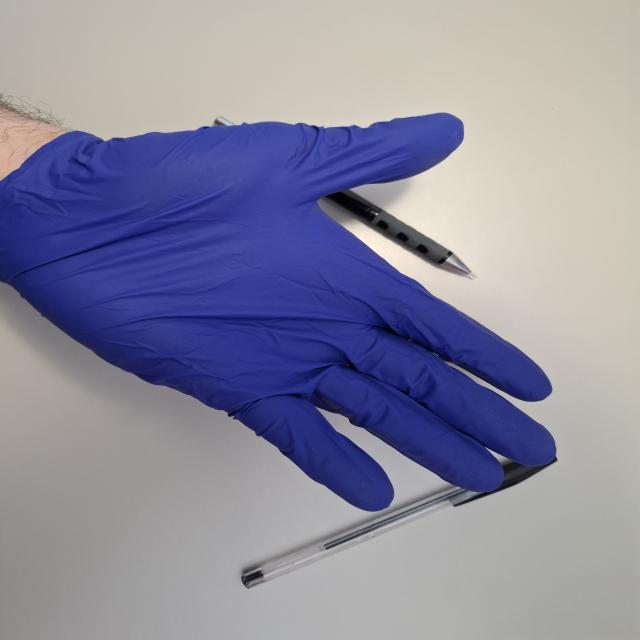glove_on: (2, 110, 564, 515)
